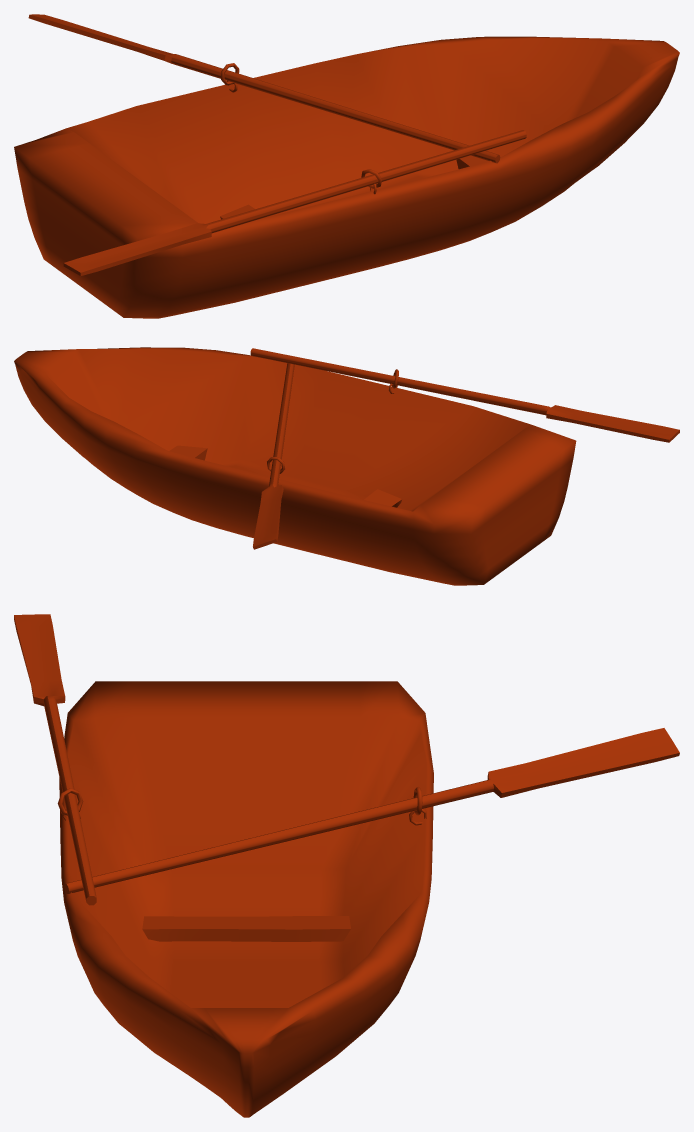
Rendered from Boat.FBX.
3 renders of one model, top to bottom at view 1: azimuth 30°, elevation 25°; view 2: azimuth 150°, elevation 25°; view 3: azimuth 270°, elevation 25°, orthographic. The views are drawn at different scales.
Parts seen in each view (by area): view 1: Boat; view 2: Boat; view 3: Boat.
Part boxes in pixels (x1,y1,x2,y2): Boat: (14, 14, 679, 318); Boat: (14, 347, 679, 585); Boat: (14, 614, 679, 1117).
Size of the model in its own units: 633 by 122 by 430.
